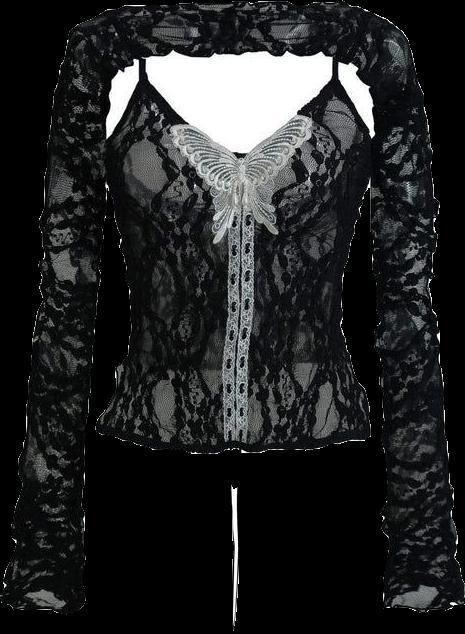Bodice: (100, 53, 371, 453)
Neckline: (141, 53, 340, 166)
Sleeve: (0, 28, 112, 615), (369, 36, 463, 611)
Sleeveline: (69, 28, 114, 151), (367, 37, 411, 148)
Waistline: (93, 425, 371, 459)
